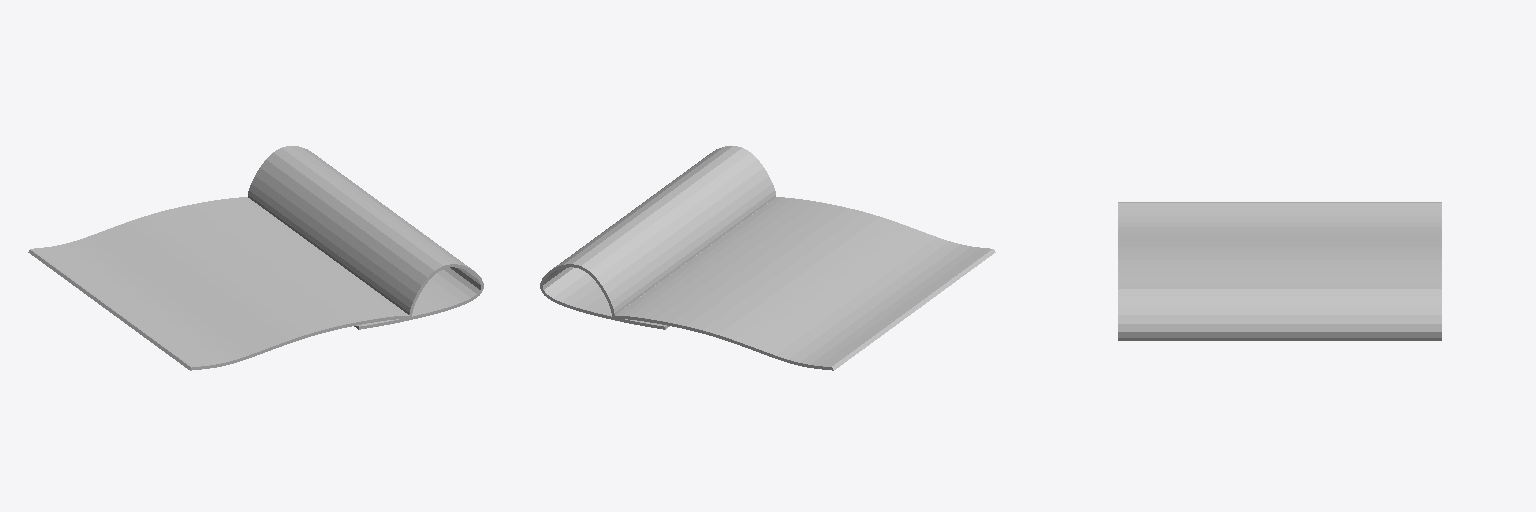
The model's file is Magazine_Folded_Fixed.obj.
The picture shows the model from 3 angles: view 1: azimuth 30°, elevation 25°; view 2: azimuth 150°, elevation 25°; view 3: azimuth 270°, elevation 25°; orthographic projection.
Visible parts, largest first — view 1: Magazine_Folded; view 2: Magazine_Folded; view 3: Magazine_Folded.
Part boxes in pixels (bbox=[...]): Magazine_Folded: bbox=[28, 146, 483, 370]; Magazine_Folded: bbox=[540, 146, 995, 370]; Magazine_Folded: bbox=[1118, 202, 1441, 340].
Size of the model in its own units: 4.48 by 0.6776 by 4.27.